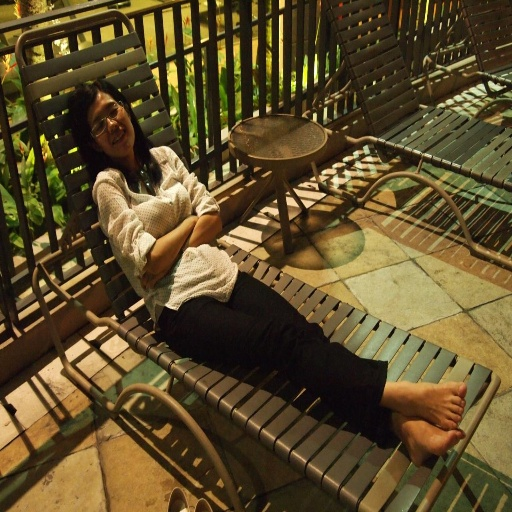hand: (137, 268, 172, 290), (188, 213, 196, 222)
